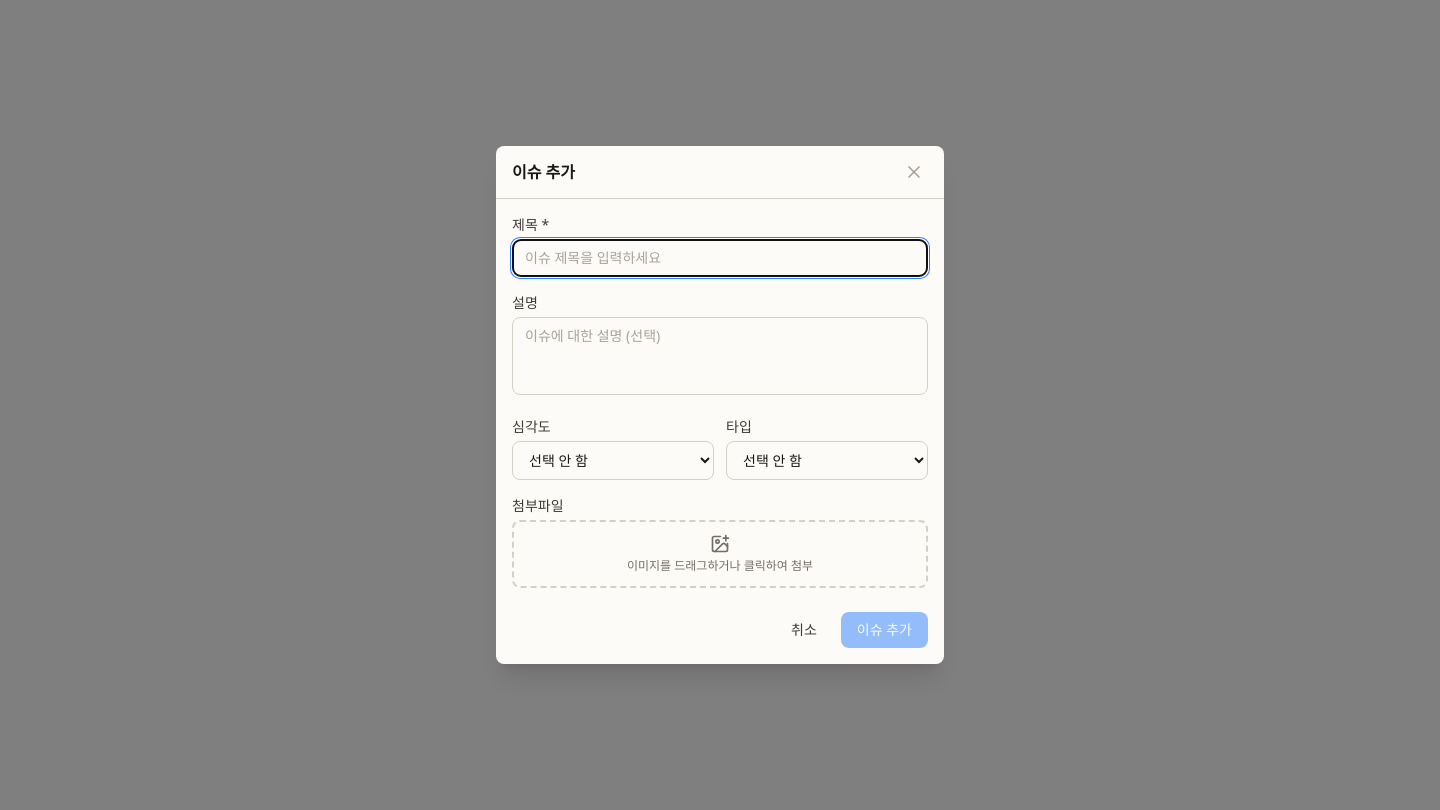
Test: IssueFormDialog › should enable submit button when title has non-whitespace content
The width and height of the screenshot is (1440, 810).
Type "Valid title" into the field labelled "제목 *".
click(720, 258); type("Valid title")  # box [512, 239, 928, 277]
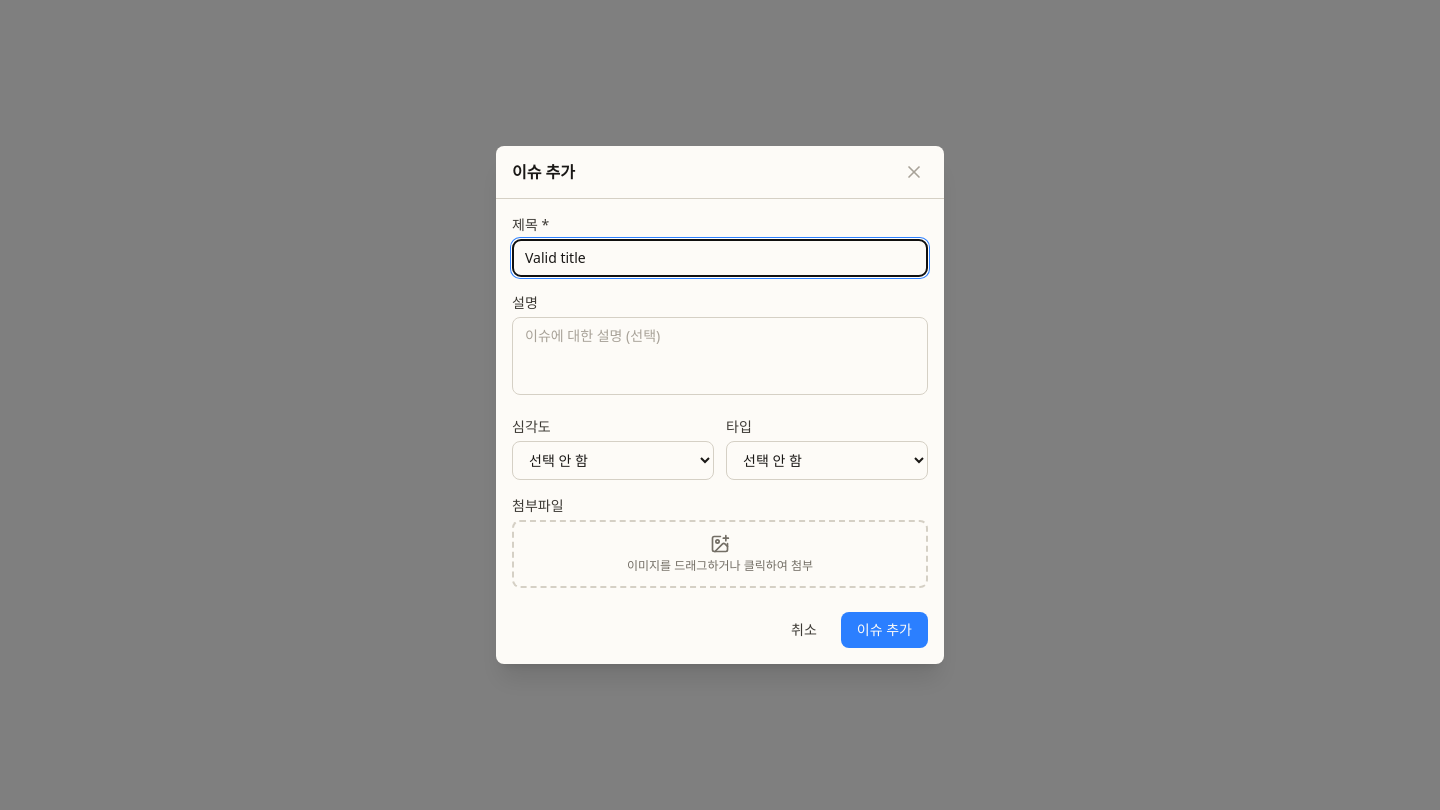
Result: the button "이슈 추가" is enabled at [841, 612, 928, 648]
